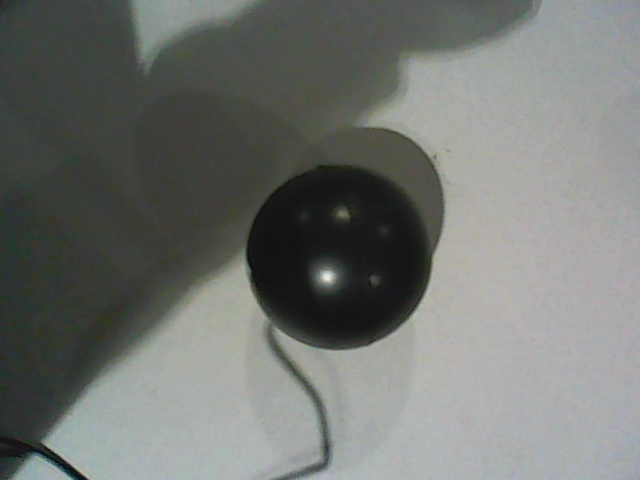ball: (247, 166, 432, 351)
